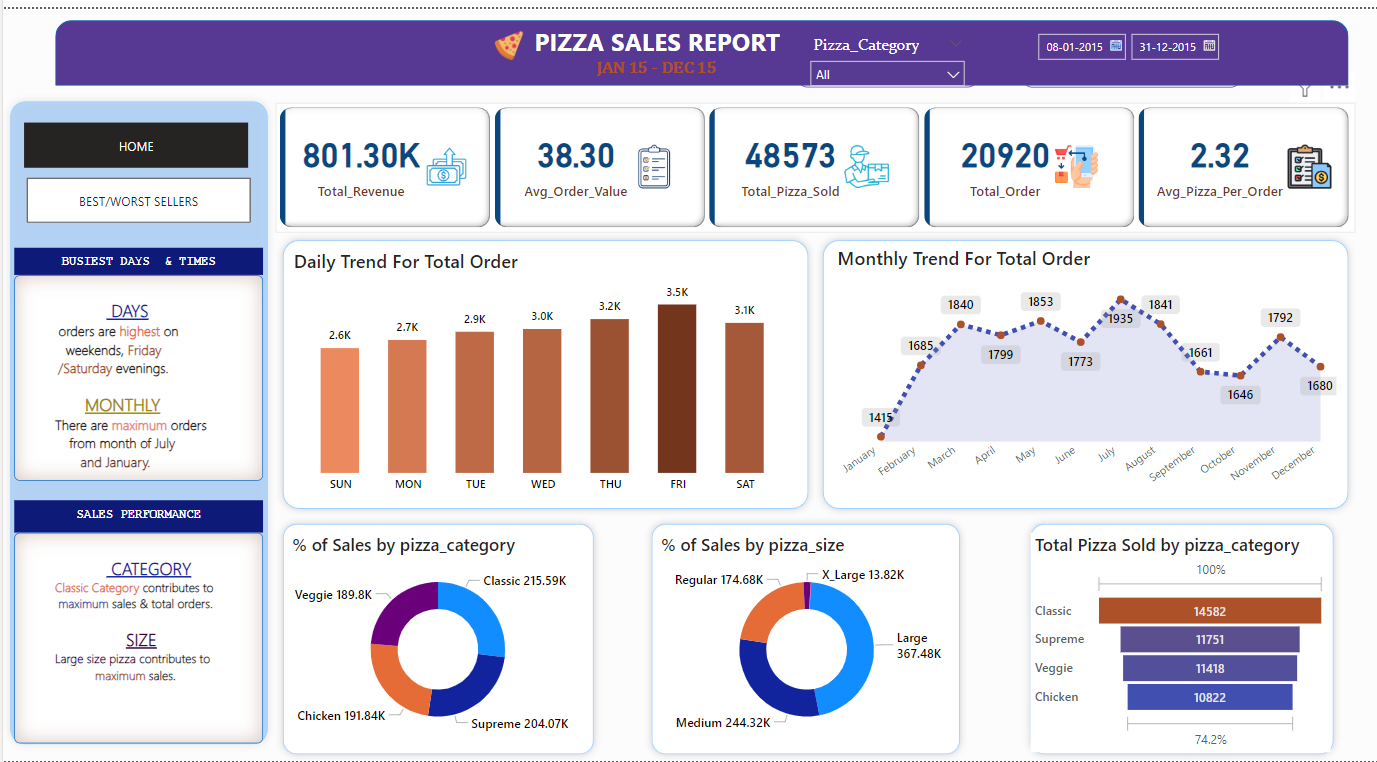

What the dashboard file says about the page in this screenshot:
{"tool":"powerbi","page":{"name":"HOME","canvas":[1500,820],"ordinal":0},"visuals":[{"type":"cardVisual","fields":{"Data":["pizza_sales.Total_Revenue","pizza_sales.Avg_Order_Value","pizza_sales.Total_Pizza_Sold","pizza_sales.Total_Order","pizza_sales.Avg_Pizza_Per_Order"]},"box":[297.1,102.9,1177.1,141.4],"z":0},{"type":"shape","box":[48.6,12.9,1425.7,71.4],"z":1000},{"type":"textbox","box":[521.4,12.9,382.9,47.1],"z":2000},{"type":"textbox","box":[487.1,48.6,450,37.1],"z":3000},{"type":"image","box":[508.6,18.6,87.1,41.4],"z":4000},{"type":"shape","box":[296.5,552.7,355,267.3],"z":5000},{"type":"shape","box":[885.4,243.6,588.9,309.1],"z":6000},{"type":"areaChart","title":" Monthly Trend For Total Order","fields":{"Category":["pizza_sales.Month Name"],"Y":["pizza_sales.Total_Order"]},"box":[904.9,257.6,554.1,281.2],"z":7000},{"type":"shape","box":[698.9,552.7,352.2,267.3],"z":8000},{"type":"shape","box":[1112.4,552.7,346.7,267.3],"z":9000},{"type":"donutChart","title":"% of Sales by pizza_category","fields":{"Category":["pizza_sales.pizza_category"],"Y":["pizza_sales.Total_Revenue"]},"box":[310.5,570.8,327.2,229.7],"z":10000},{"type":"shape","box":[296.5,243.6,588.9,309.1],"z":11000},{"type":"columnChart","title":"Daily Trend For Total Order","fields":{"Category":["pizza_sales.Order_Day"],"Y":["pizza_sales.Total_Order"]},"box":[311.9,260.3,554.1,275.7],"z":12000},{"type":"donutChart","title":"% of Sales by pizza_size","fields":{"Category":["pizza_sales.pizza_size"],"Y":["pizza_sales.Total_Revenue"]},"box":[712.8,570.8,327.2,229.7],"z":13000},{"type":"funnel","title":"Total Pizza Sold by pizza_category","fields":{"Category":["pizza_sales.pizza_category"],"Y":["pizza_sales.Total_Pizza_Sold"]},"box":[1120.7,570.8,327.2,239.5],"z":14000},{"type":"shape","box":[0,93.3,296.5,717],"z":15000},{"type":"textbox","box":[12.5,260.3,271.5,29.2],"z":16000},{"type":"textbox","box":[12.5,289.6,271.5,224.1],"z":17000},{"type":"textbox","box":[12.5,536,271.5,34.8],"z":18000},{"type":"textbox","box":[12.5,570.8,271.5,229.7],"z":19000},{"type":"slicer","fields":{"Values":["pizza_sales.pizza_category"]},"box":[866.2,19.1,195.6,66.2],"z":20000},{"type":"slicer","fields":{"Values":["pizza_sales.order_date"]},"box":[1111.8,13.2,236.8,72.1],"z":21000},{"type":"pageNavigator","box":[23.5,123.5,244.1,50],"z":22000},{"type":"pageNavigator","box":[23.5,183.8,244.1,50],"z":23000},{"type":"pageNavigator","box":[26.5,183.8,244.1,50],"z":24000}]}

Visuals, with their boxes on the page's 1500x820 design canvas (x1, y1, x2, y2). These are canvas units, not pixel positions in the 1377x762 screenshot, which may show the page scaled, cropped or inside an application window:
cardVisual - pizza_sales.Total_Revenue x pizza_sales.Avg_Order_Value: <region>297, 103, 1474, 244</region>
shape: <region>49, 13, 1474, 84</region>
textbox: <region>521, 13, 904, 60</region>
textbox: <region>487, 49, 937, 86</region>
image: <region>509, 19, 596, 60</region>
shape: <region>296, 553, 652, 820</region>
shape: <region>885, 244, 1474, 553</region>
" Monthly Trend For Total Order" areaChart: <region>905, 258, 1459, 539</region>
shape: <region>699, 553, 1051, 820</region>
shape: <region>1112, 553, 1459, 820</region>
"% of Sales by pizza_category" donutChart: <region>310, 571, 638, 800</region>
shape: <region>296, 244, 885, 553</region>
"Daily Trend For Total Order" columnChart: <region>312, 260, 866, 536</region>
"% of Sales by pizza_size" donutChart: <region>713, 571, 1040, 800</region>
"Total Pizza Sold by pizza_category" funnel: <region>1121, 571, 1448, 810</region>
shape: <region>0, 93, 296, 810</region>
textbox: <region>12, 260, 284, 290</region>
textbox: <region>12, 290, 284, 514</region>
textbox: <region>12, 536, 284, 571</region>
textbox: <region>12, 571, 284, 800</region>
slicer - pizza_sales.pizza_category: <region>866, 19, 1062, 85</region>
slicer - pizza_sales.order_date: <region>1112, 13, 1349, 85</region>
pageNavigator: <region>24, 124, 268, 174</region>
pageNavigator: <region>24, 184, 268, 234</region>
pageNavigator: <region>26, 184, 271, 234</region>
